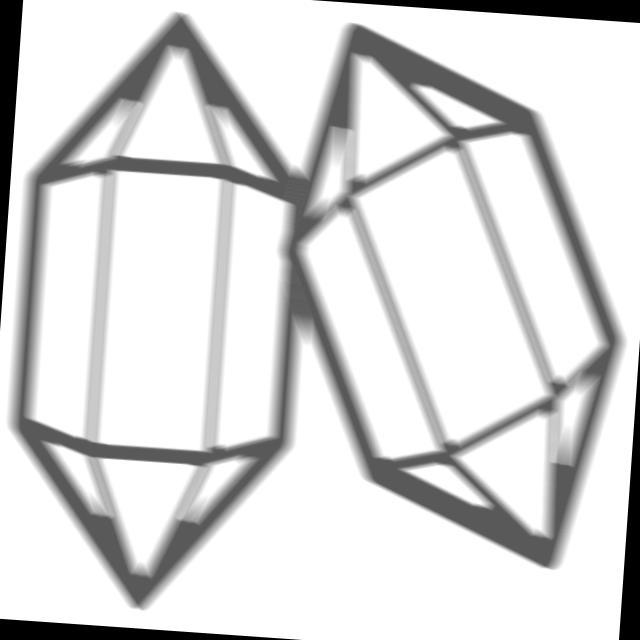crystal: (249, 15, 640, 581), (1, 1, 334, 630)
